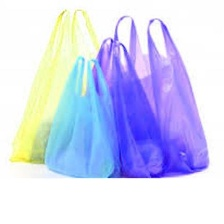plastic_bag: (110, 9, 213, 181), (6, 4, 103, 169), (84, 31, 167, 180), (39, 52, 119, 183)
